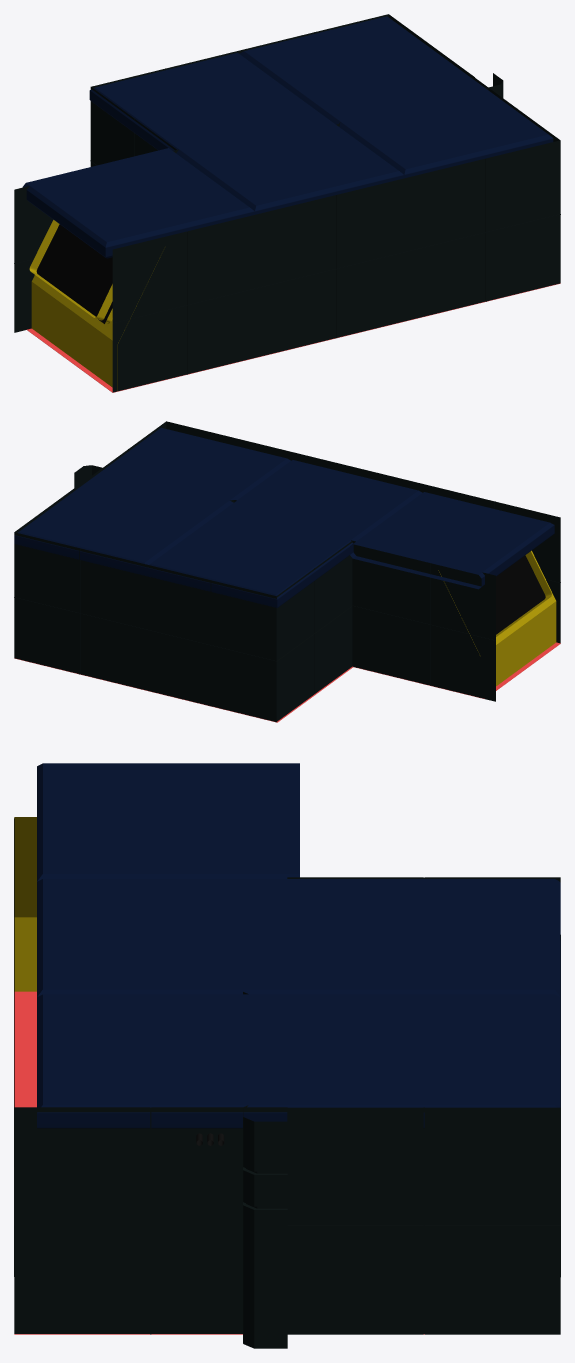
Rendered from ScienceLab.dae.
3 views of the same model, one above another, from view 1: azimuth 30°, elevation 25°; view 2: azimuth 150°, elevation 25°; view 3: azimuth 270°, elevation 25° (orthographic). The views are drawn at different scales.
Parts seen in each view (by area): view 1: PIllar_w_Wall10, PIllar_w_Wall12, PIllar_w_Wall11, RPanel5, RPanel2, RPanel1, RPanel4, RPanel3, Doorway, Window3, PIllar_w_Wall8, PIllar_w_Wall7 (+1 smaller); view 2: PIllar_w_Wall8, PIllar_w_Wall4, PIllar_w_Wall5, RPanel4, RPanel3, RPanel5, RPanel1, RPanel2, PIllar_w_Wall7, Doorway, PIllar_w_Wall12, Window3 (+4 smaller); view 3: PIllar_w_Wall6, PIllar_w_Wall9, RPanel2, RPanel1, RPanel5, RPanel4, RPanel3, PIllar_w_Wall1, Doorway, Floor6.
Part boxes in pixels (x1,y1,x2,y2): PIllar_w_Wall10: (411,140,560,319); PIllar_w_Wall12: (112,213,262,392); PIllar_w_Wall11: (262,177,411,355); RPanel5: (22,148,254,258); RPanel2: (322,75,553,178); RPanel1: (173,112,404,214); RPanel4: (89,52,317,150); RPanel3: (239,16,466,113); Doorway: (29,220,160,390); Window3: (36,224,112,323); PIllar_w_Wall8: (14,186,53,332); PIllar_w_Wall7: (91,87,176,166); PIllar_w_Wall8: (364,547,495,701); PIllar_w_Wall4: (145,564,276,721); PIllar_w_Wall5: (14,532,145,689); RPanel4: (146,512,350,607); RPanel3: (14,480,217,575); RPanel5: (350,492,554,589); RPanel1: (222,460,422,553); RPanel2: (90,427,290,513); PIllar_w_Wall7: (276,541,352,721); Doorway: (438,550,556,686); PIllar_w_Wall12: (429,485,560,643); Window3: (496,555,545,634); PIllar_w_Wall6: (287,1107,560,1334); PIllar_w_Wall9: (14,1107,287,1334); RPanel2: (37,994,299,1128); RPanel1: (37,879,299,996); RPanel5: (37,763,299,881); RPanel4: (298,879,560,996); RPanel3: (298,994,560,1128); PIllar_w_Wall1: (243,1105,287,1348); Doorway: (14,817,36,991); Floor6: (14,991,36,1103).
Size of the model in its own units: 38.46 by 11 by 24.02.
